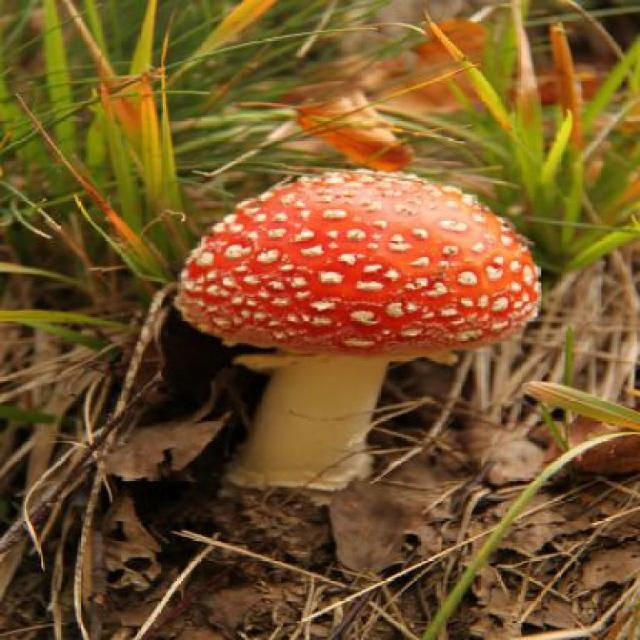Mushroom: (168, 164, 534, 578)
